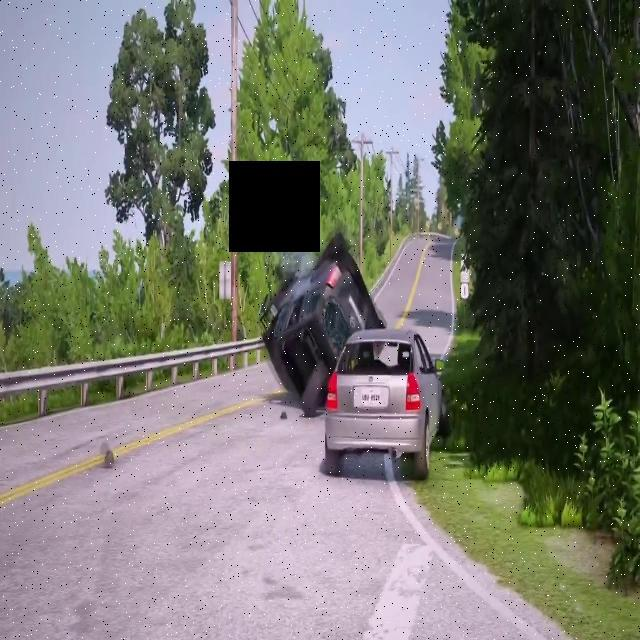severe: (256, 230, 448, 478)
